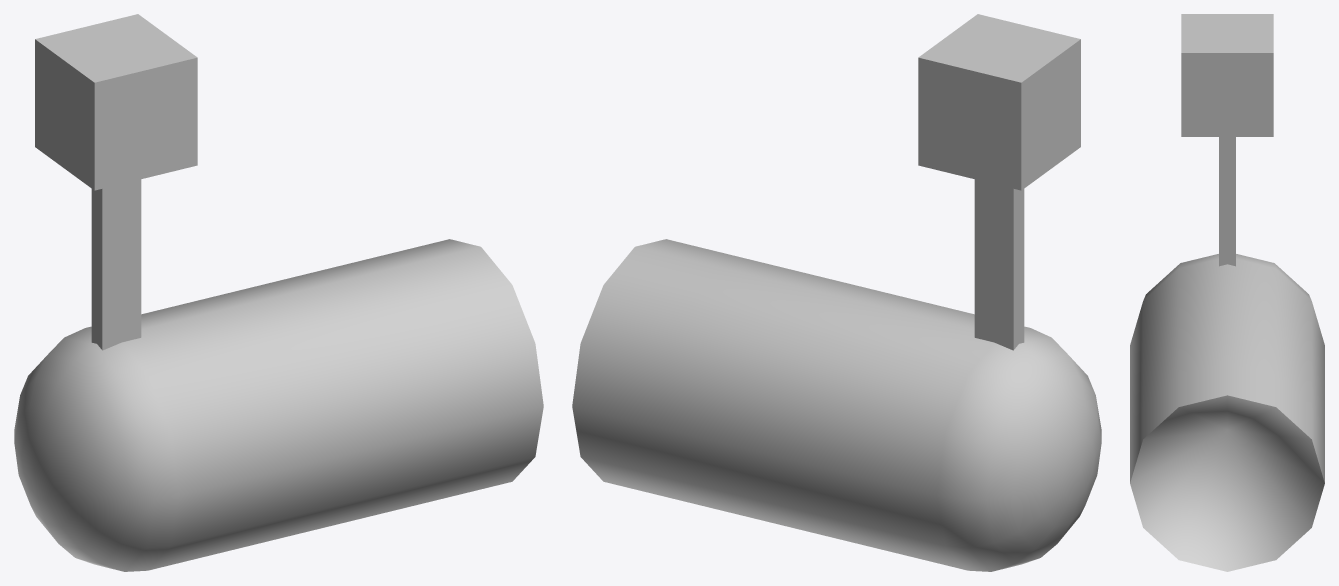
File: Lamp_Halogen_01.FBX
3 renders of one model, left to right at view 1: azimuth 30°, elevation 25°; view 2: azimuth 150°, elevation 25°; view 3: azimuth 270°, elevation 25°, orthographic. The views are drawn at different scales.
Visible parts, largest first — view 1: Lamp_Only, Lamp_Halogen_01, Pivot_Rotate; view 2: Lamp_Only, Lamp_Halogen_01, Pivot_Rotate; view 3: Lamp_Only, Lamp_Halogen_01, Pivot_Rotate.
Part boxes in pixels (x1,y1,x2,y2): Lamp_Only: [14, 239, 543, 571]; Lamp_Halogen_01: [35, 14, 197, 190]; Pivot_Rotate: [91, 179, 141, 350]; Lamp_Only: [572, 239, 1101, 571]; Lamp_Halogen_01: [918, 14, 1080, 190]; Pivot_Rotate: [974, 179, 1024, 350]; Lamp_Only: [1130, 254, 1324, 571]; Lamp_Halogen_01: [1181, 14, 1273, 136]; Pivot_Rotate: [1219, 137, 1235, 266].
Size of the model in its own units: 0.7963 by 0.8779 by 0.3876.
